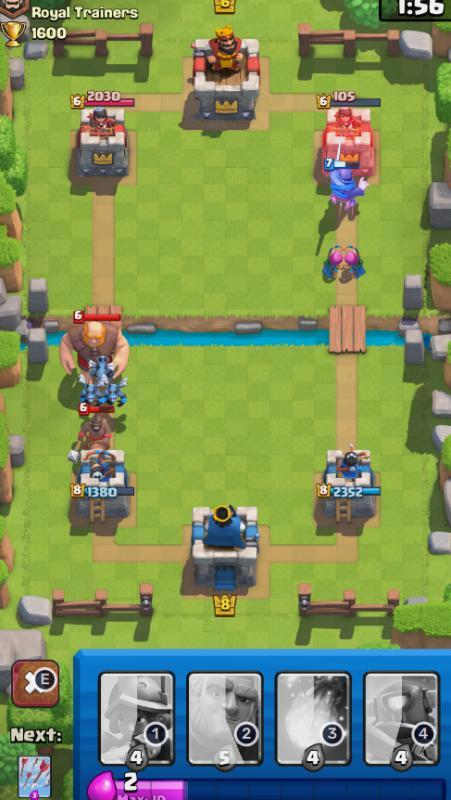enemy_giant: (56, 309, 141, 381)
enemy_hog_rider: (69, 403, 124, 452)
player_archers: (346, 241, 375, 279), (319, 243, 345, 280)
player_knight: (321, 149, 373, 212)
player_minions: (99, 379, 133, 405), (86, 355, 117, 382), (76, 379, 106, 406)
